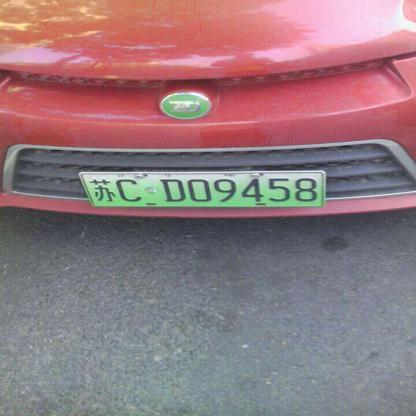lp: (80, 172, 324, 206)
